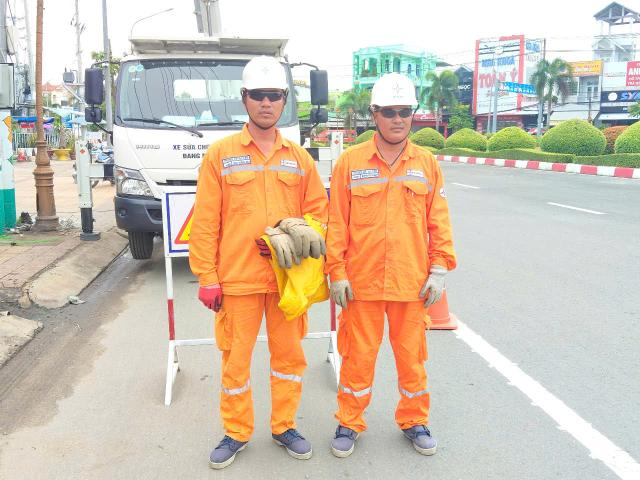gloves: (266, 217, 326, 269), (413, 259, 449, 311), (192, 276, 233, 314), (324, 271, 362, 307), (251, 231, 278, 258)
helmet: (230, 52, 299, 104), (363, 70, 420, 115)
shoes: (202, 420, 252, 470), (395, 415, 443, 460), (265, 415, 316, 457), (325, 413, 357, 455)
